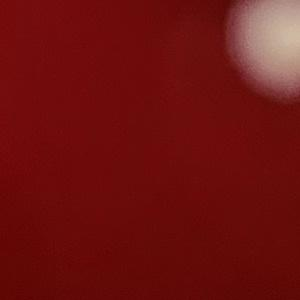colony: (220, 0, 300, 113)
